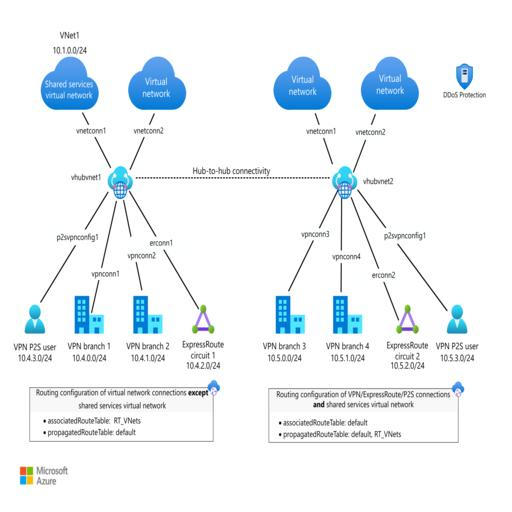actor: (73, 294, 105, 332), (132, 294, 164, 332), (274, 294, 306, 332), (331, 294, 363, 332), (445, 297, 468, 330), (24, 297, 46, 330)
api_gateway: (358, 192, 442, 305), (48, 192, 108, 305), (134, 192, 190, 305), (288, 192, 344, 305), (356, 192, 379, 305), (100, 192, 113, 305), (128, 192, 140, 305), (130, 112, 149, 166), (314, 112, 330, 166), (360, 112, 376, 166), (136, 176, 330, 180), (82, 112, 94, 166), (339, 192, 342, 305)
data_flow: (188, 297, 216, 330), (330, 166, 358, 198), (107, 166, 134, 198), (394, 297, 420, 330), (454, 62, 474, 90)
database_storage: (360, 58, 420, 112), (128, 58, 187, 112), (40, 58, 98, 112), (274, 58, 332, 112)
trust_boundary: (254, 56, 478, 389), (9, 56, 232, 389)
